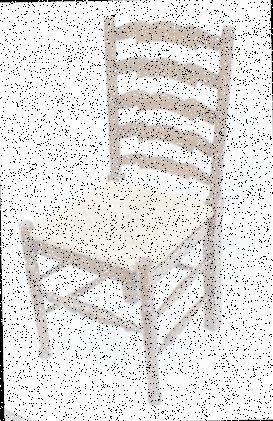Silla: (17, 17, 239, 408)
